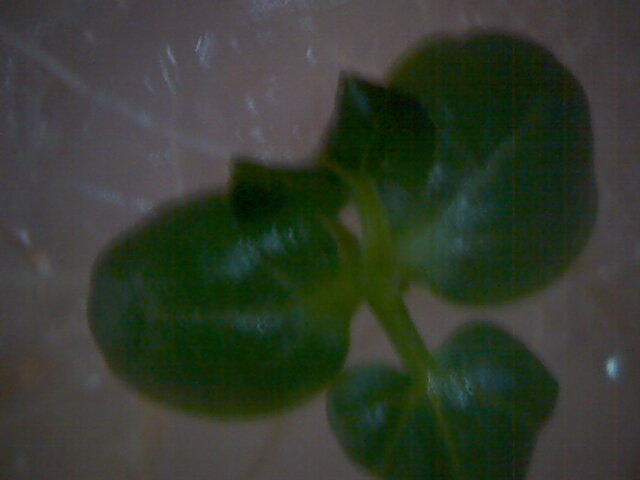lil_plant: (78, 42, 608, 480)
